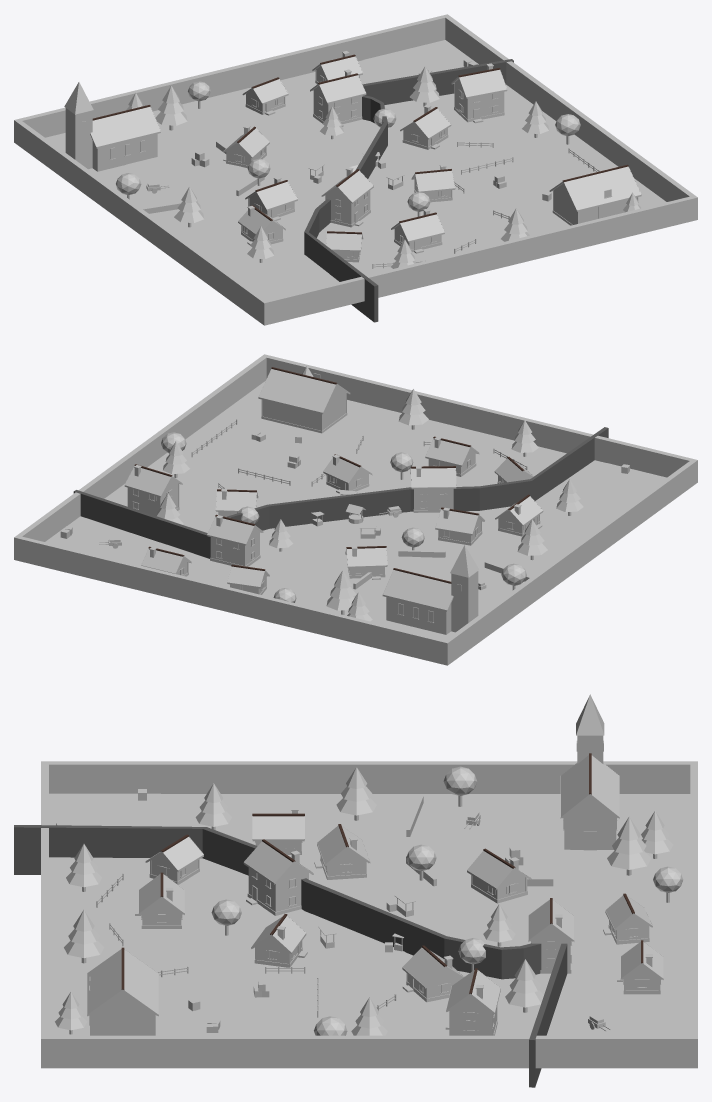
The picture shows the model from 3 angles, top to bottom: view 1: azimuth 30°, elevation 25°; view 2: azimuth 150°, elevation 25°; view 3: azimuth 270°, elevation 25°; orthographic projection. The views are drawn at different scales.
Parts seen in each view (by area): view 1: Wall_Stone, Ground_Grass, Tree_Leaves, Ground_Dirt, Site_Tiles, Roof_Brown, Roof_Red, Cube.005, House_Trim, Roof_Slate, Cube.001, House_Timber (+12 smaller); view 2: Wall_Stone, Ground_Grass, Cube.005, Tree_Leaves, Ground_Dirt, Roof_Brown, Site_Tiles, Roof_Red, Roof_Slate, Cube.001, House_Trim, House_Timber (+10 smaller); view 3: Ground_Grass, Wall_Stone, Cube.005, Tree_Leaves, Ground_Dirt, Site_Tiles, Roof_Brown, Roof_Red, House_Trim, Roof_Slate, House_Timber, House_Plaster (+14 smaller).
Boxes of the visible parts, x1,y1,x2,y2 form: Wall_Stone: (14, 14, 697, 325); Ground_Grass: (45, 60, 666, 286); Tree_Leaves: (116, 66, 640, 268); Ground_Dirt: (158, 72, 584, 288); Site_Tiles: (115, 153, 593, 215); Roof_Brown: (314, 56, 640, 250); Roof_Red: (223, 69, 506, 241); Cube.005: (304, 95, 387, 322); House_Trim: (90, 56, 641, 259); Roof_Slate: (64, 79, 297, 210); Cube.001: (362, 59, 513, 105); House_Timber: (313, 86, 441, 249); Wall_Stone: (14, 354, 697, 665); Ground_Grass: (67, 381, 626, 639); Cube.005: (227, 427, 608, 530); Tree_Leaves: (156, 366, 583, 621); Ground_Dirt: (104, 414, 607, 614); Roof_Brown: (141, 369, 533, 573); Site_Tiles: (219, 427, 499, 604); Roof_Red: (125, 438, 542, 566); Roof_Slate: (227, 509, 483, 610); Cube.001: (73, 490, 210, 558); House_Trim: (124, 369, 543, 623); House_Timber: (210, 448, 475, 565); Ground_Grass: (49, 794, 690, 1035); Wall_Stone: (41, 735, 697, 1068); Cube.005: (14, 825, 541, 979); Tree_Leaves: (55, 766, 683, 1035); Ground_Dirt: (63, 811, 654, 1032); Site_Tiles: (159, 814, 569, 1035); Roof_Brown: (87, 837, 663, 1015); Roof_Red: (139, 816, 573, 1013); House_Trim: (87, 763, 663, 1035); Roof_Slate: (317, 694, 652, 930); House_Timber: (142, 863, 570, 969); House_Plaster: (151, 841, 647, 997).
Size of the model in its own units: 102 by 22.04 by 105.
